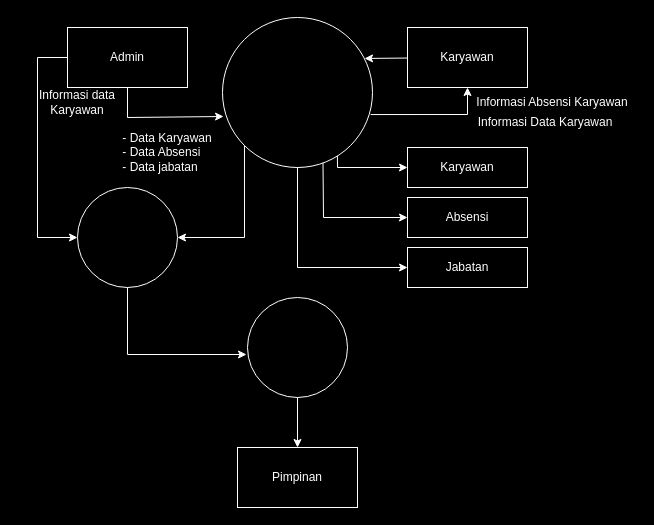
Some shapes in this 654 by 525 pixel diagram are drawn without their labels. The shapes that lost their labels are listed below. From the top down, each one's centre as x and y in pixels, then its label:
At point (297, 92): "Upload data".
At point (127, 237): "Update data".
At point (297, 347): "Laporan".
